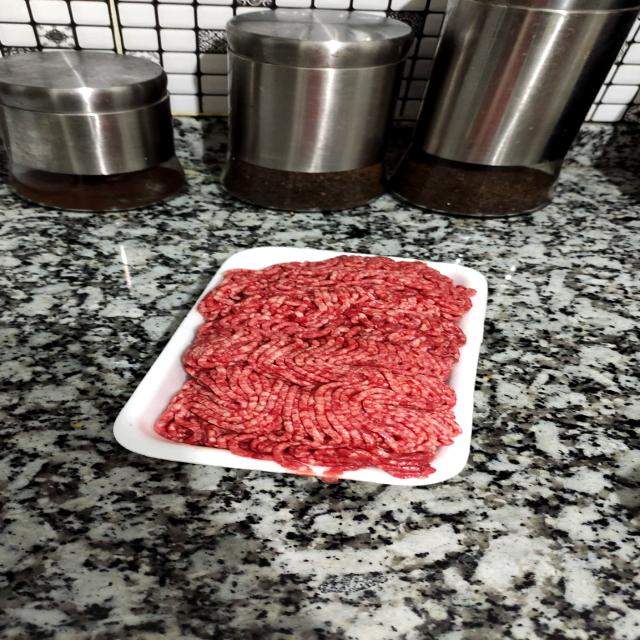ground meat: (148, 252, 507, 477)
